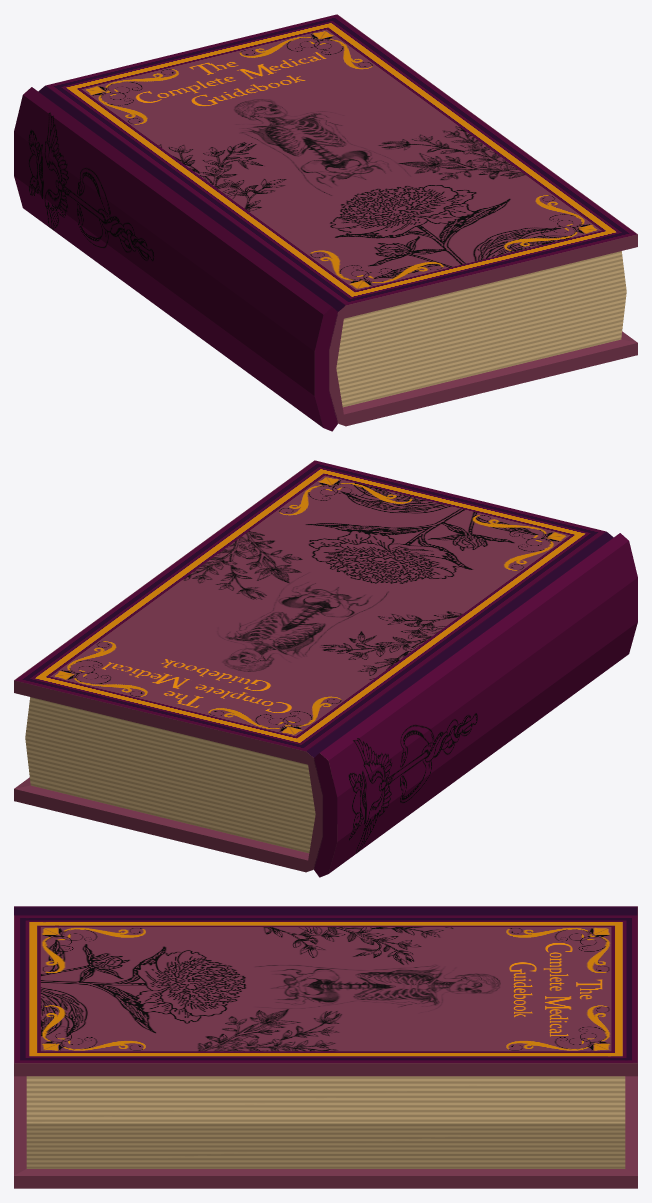
Rendered from medicalbook.fbx.
3 views of the same model, one above another, from view 1: azimuth 30°, elevation 25°; view 2: azimuth 150°, elevation 25°; view 3: azimuth 270°, elevation 25° (orthographic). The views are drawn at different scales.
Parts seen in each view (by area): view 1: medical_book; view 2: medical_book; view 3: medical_book.
Part boxes in pixels (<box>): medical_book: <box>14,14,637,431</box>; medical_book: <box>14,460,637,877</box>; medical_book: <box>14,906,637,1188</box>.
Size of the model in its own units: 1.03 by 0.3792 by 1.66.
Materials: 1 (1 with a texture image).
